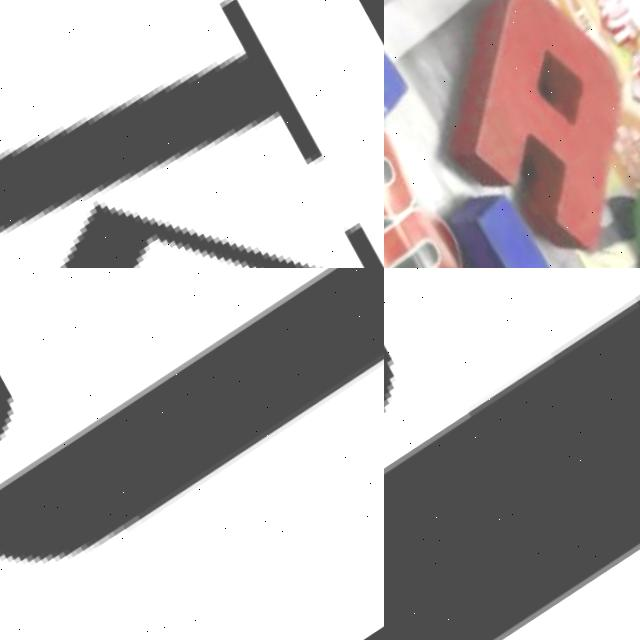A: (403, 0, 640, 268)
C: (606, 122, 640, 268)
J: (0, 268, 384, 640), (384, 268, 640, 640)
K: (0, 0, 384, 268)
N: (384, 0, 449, 245)
T: (384, 194, 617, 268)
